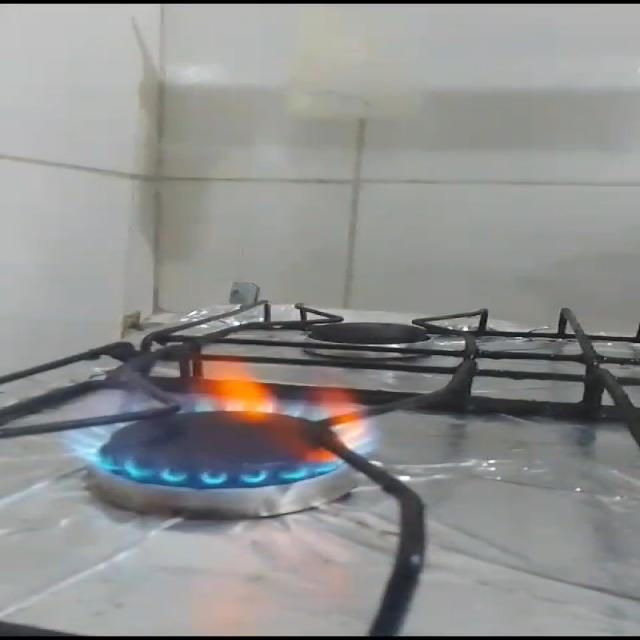fogo-ypXI: (48, 344, 387, 490)
